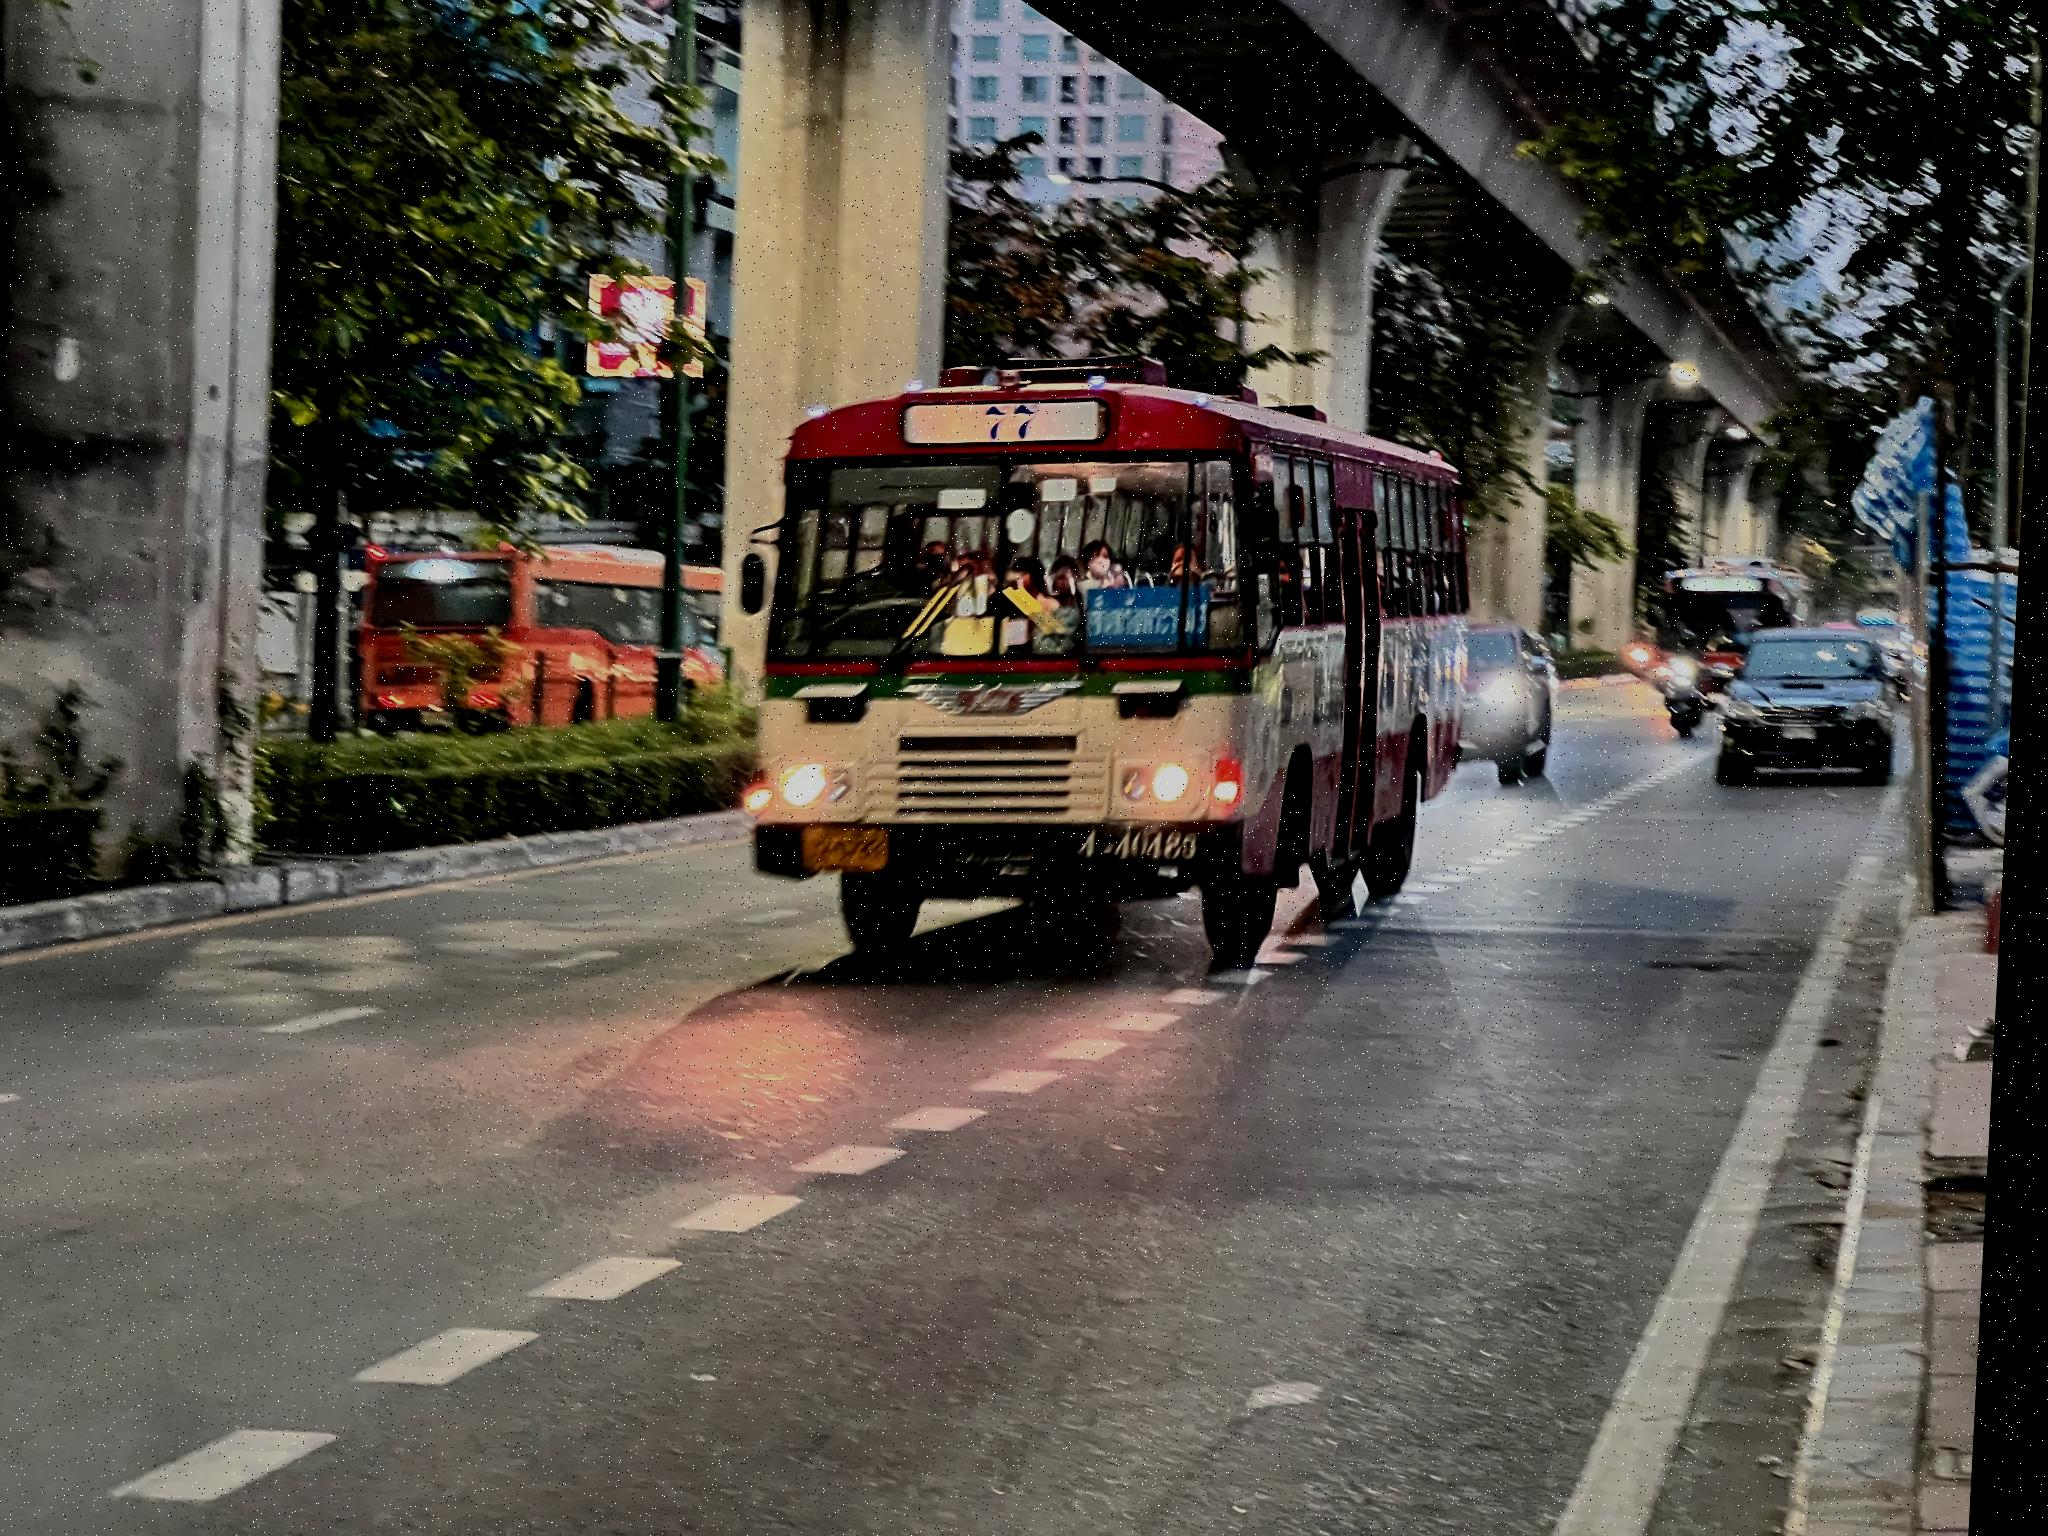BMTA-bus: (748, 371, 1477, 978)
Bus Line Number: (969, 397, 1058, 447)
Bus Side Number: (1080, 828, 1219, 873)
Destination Sign: (1092, 589, 1222, 647)
